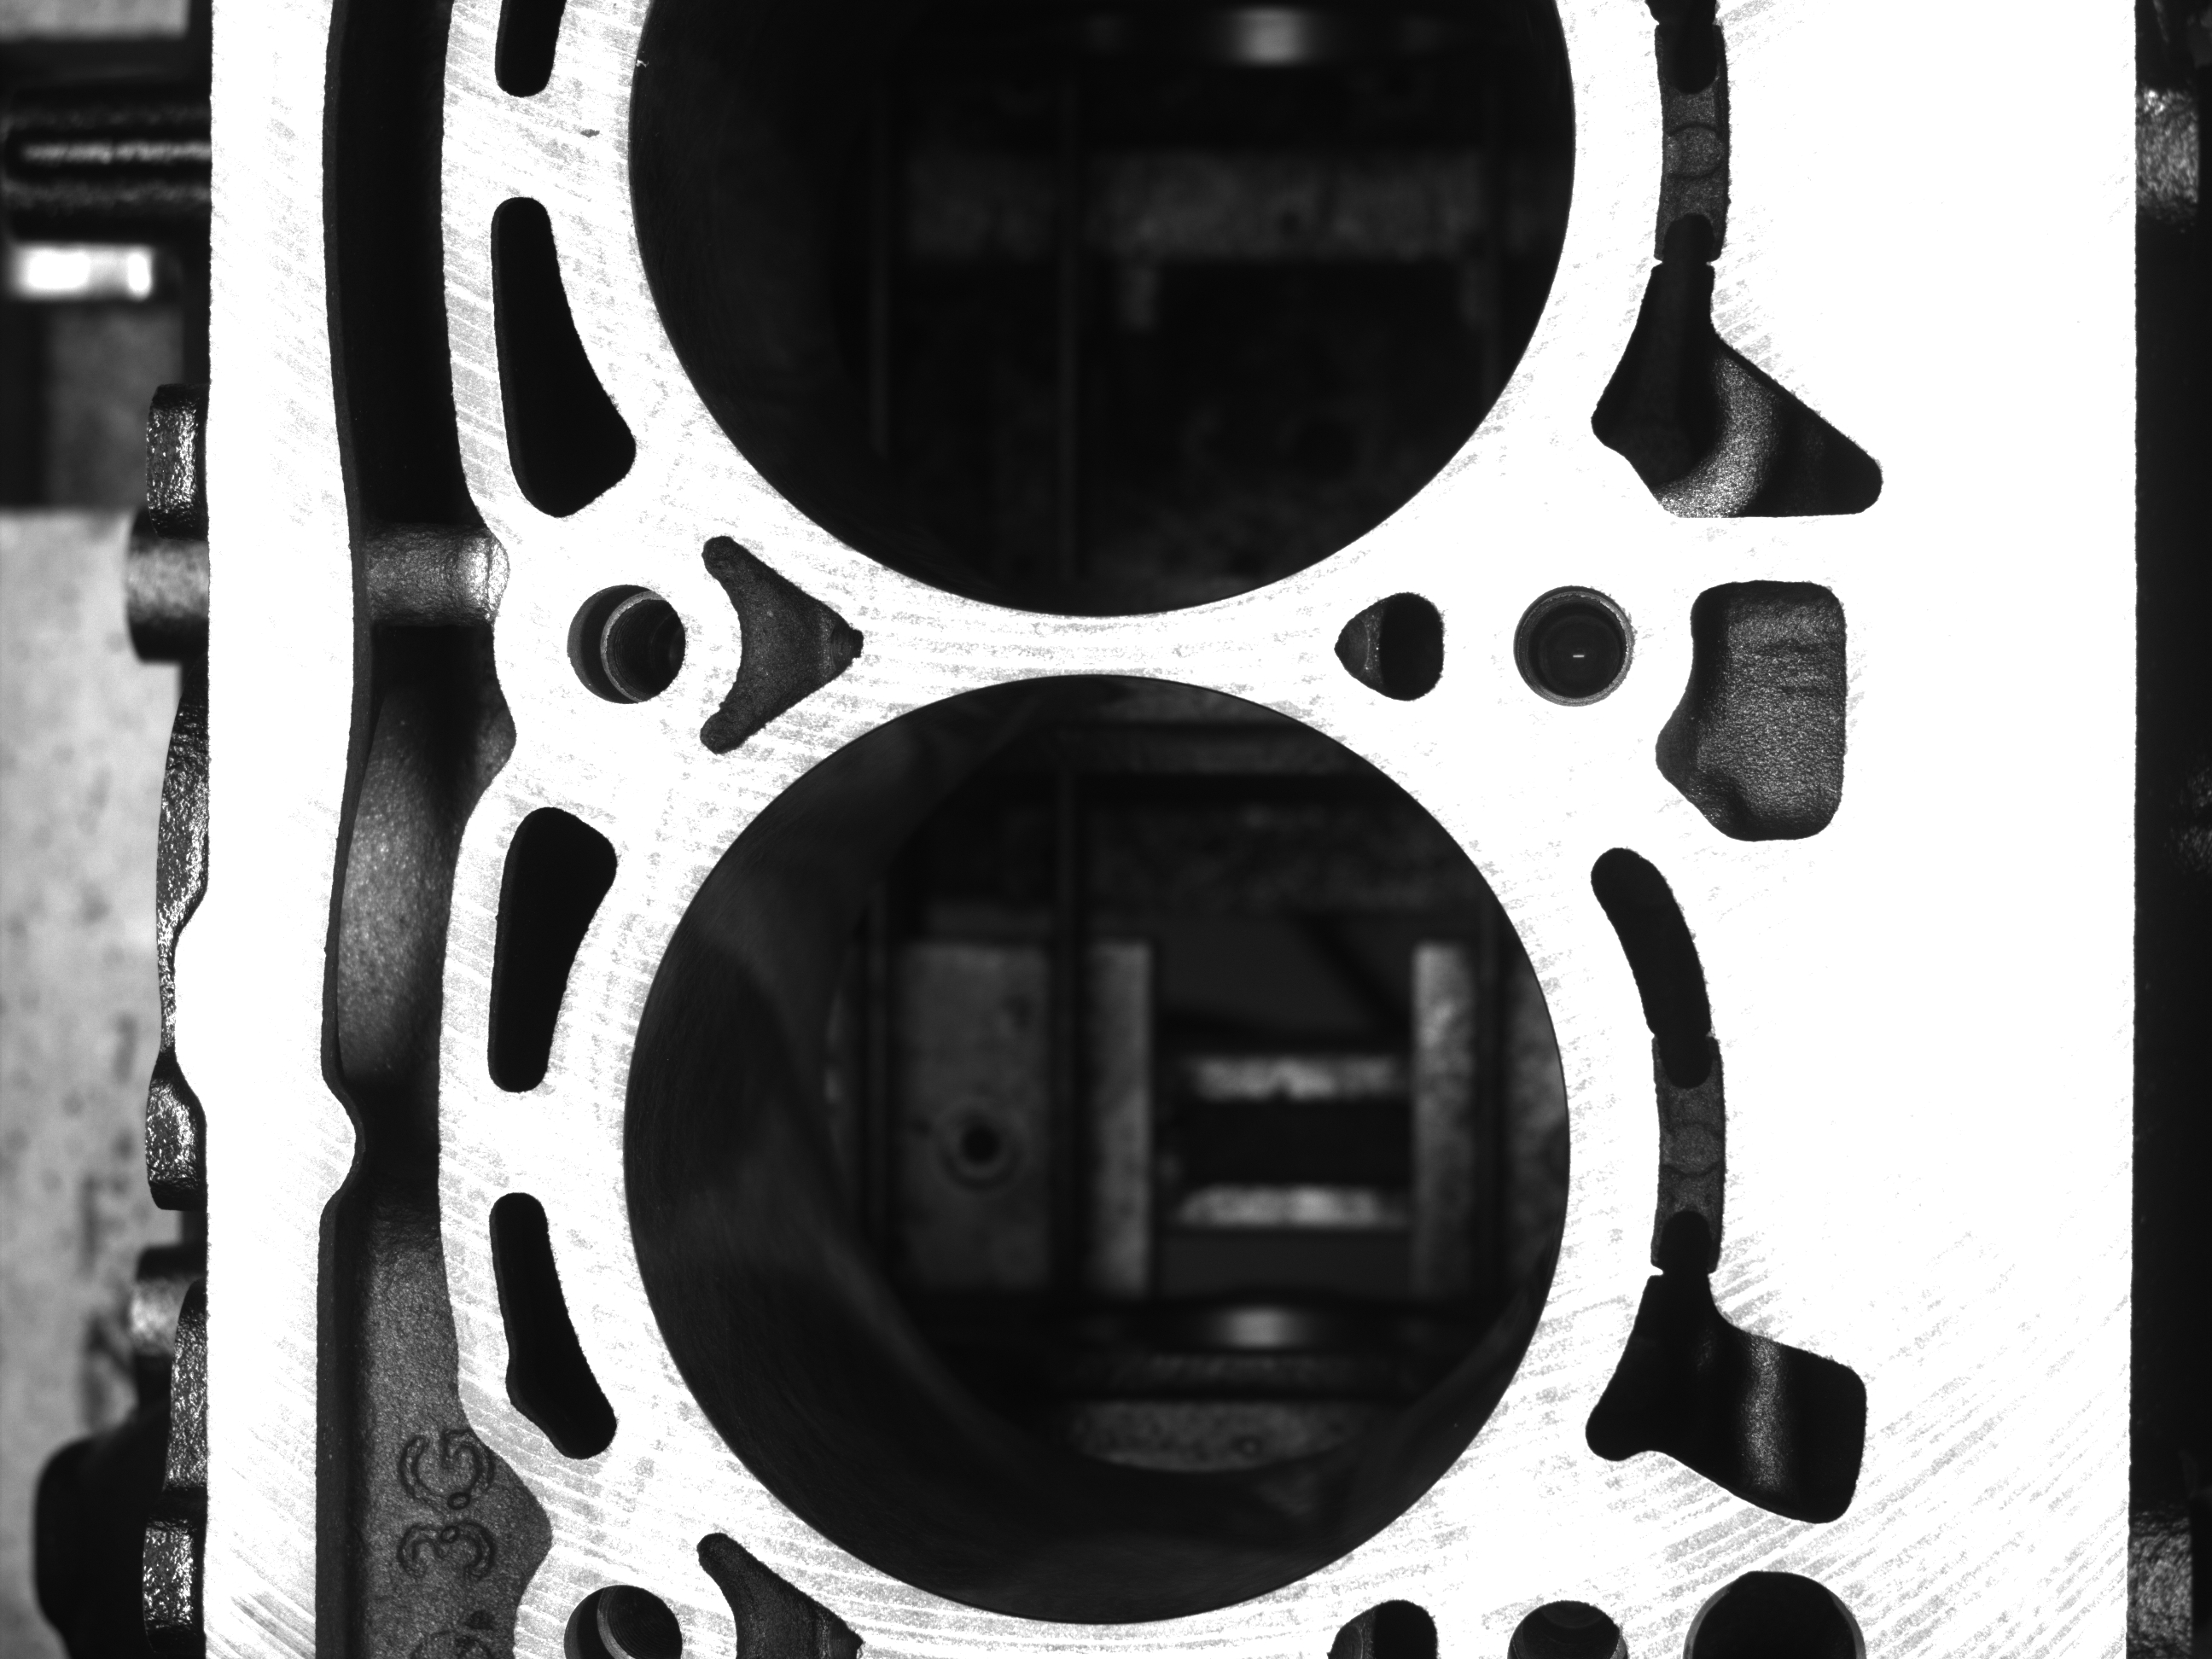crackle: (580, 120, 599, 148)
